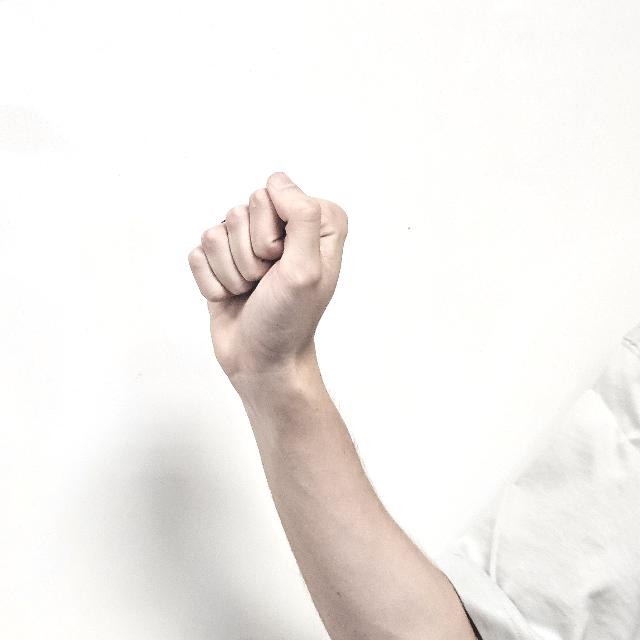Quadro: (188, 173, 356, 387)
